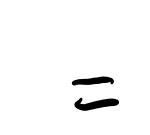eqv: (70, 75, 119, 110)
